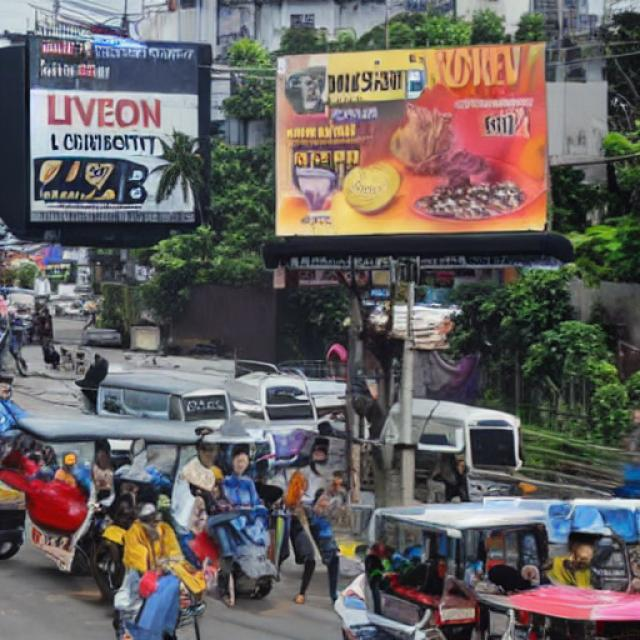Billboard: (272, 37, 550, 241), (25, 31, 206, 230)
